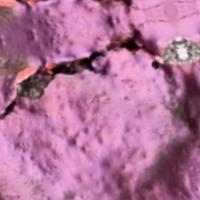crack: (0, 17, 159, 150)
